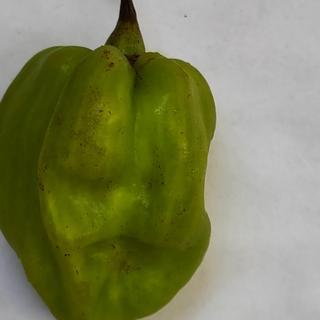Defect: (101, 48, 160, 99)
Fly-bites: (105, 56, 118, 76), (72, 265, 85, 282), (61, 246, 73, 261)
